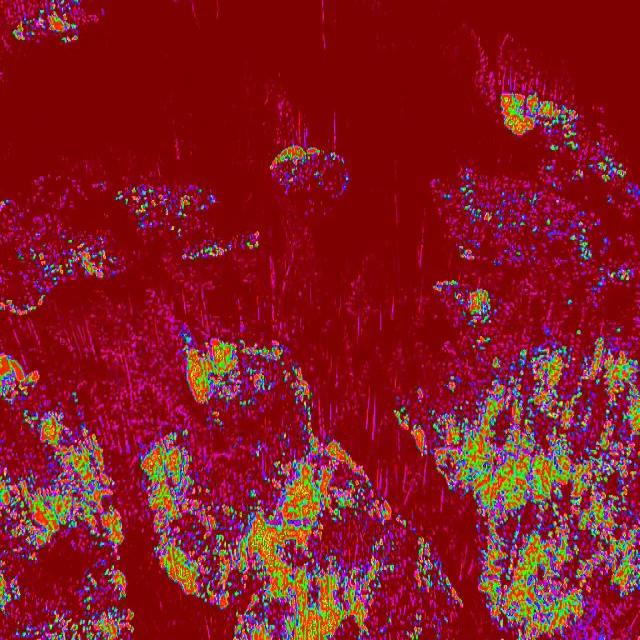fire: (0, 339, 640, 640), (421, 168, 640, 278), (0, 181, 116, 318), (494, 82, 640, 188), (116, 172, 224, 242), (266, 140, 353, 202), (0, 0, 102, 45), (435, 277, 504, 338), (182, 232, 263, 262)
